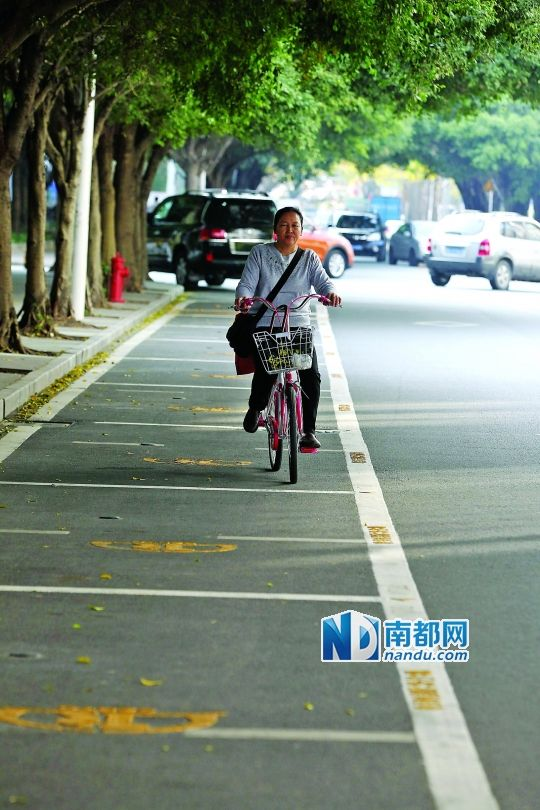slot_nocar: (1, 569, 492, 760), (3, 503, 441, 610)
